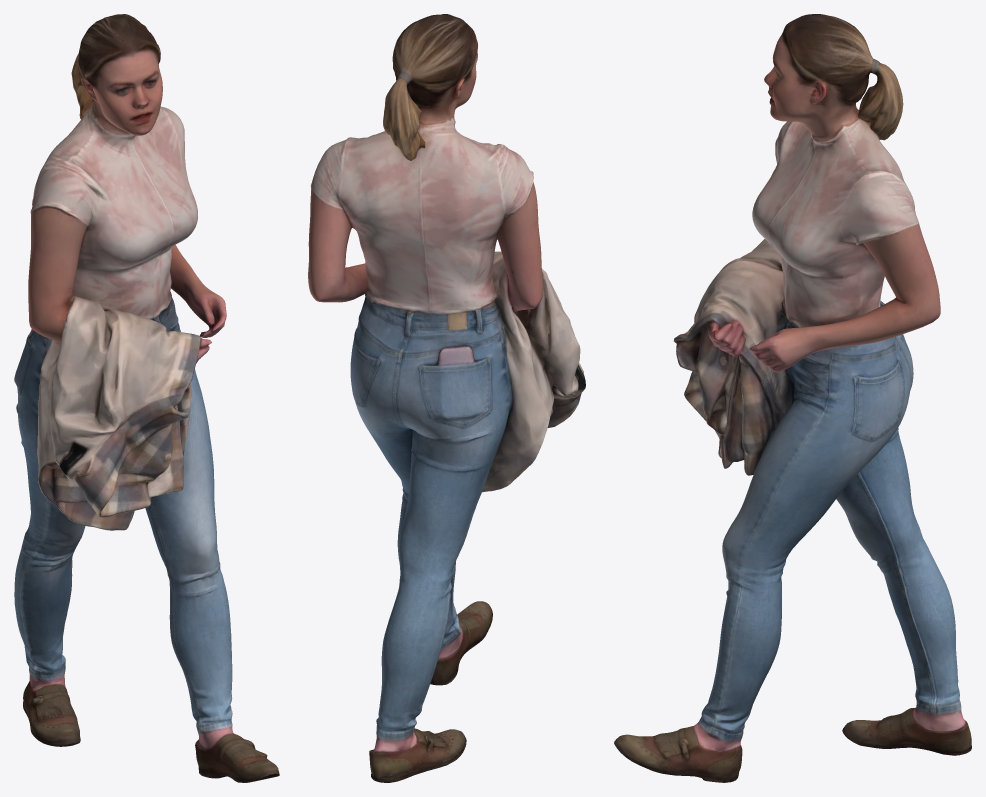
File: pedestrian-woman-walking.glb
3 renders of one model, left to right at view 1: azimuth 30°, elevation 25°; view 2: azimuth 150°, elevation 25°; view 3: azimuth 270°, elevation 25°, orthographic. The views are drawn at different scales.
Parts seen in each view (by area): view 1: Object_2; view 2: Object_2; view 3: Object_2.
Part boxes in pixels (x1,y1,x2,y2): Object_2: [14, 14, 279, 782]; Object_2: [308, 14, 585, 782]; Object_2: [614, 14, 971, 782].
Bounding box in the file's own units: 0.4713 × 1.65 × 0.7253.
Materials: 1 (1 with a texture image).
